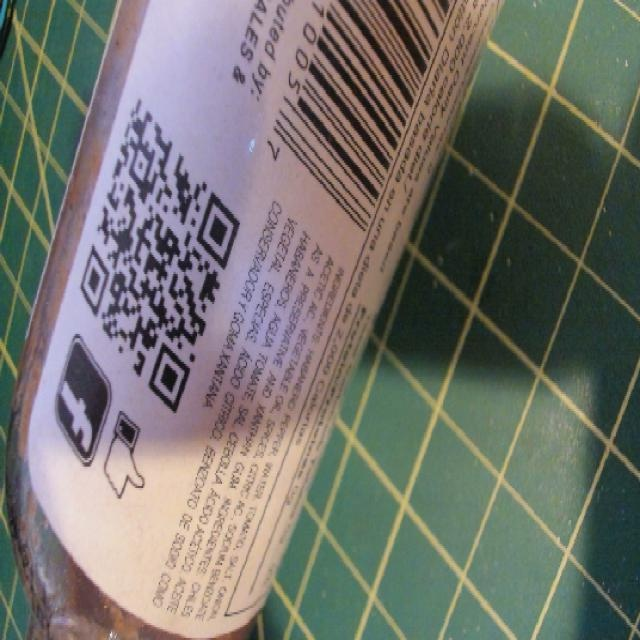qr-code: (69, 81, 251, 428)
